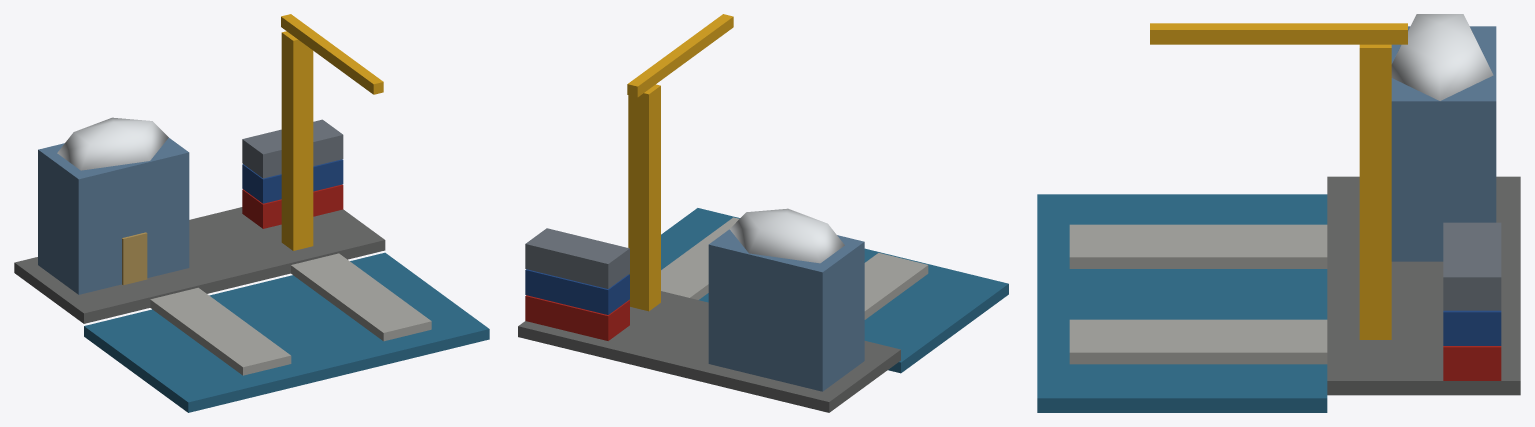
File: bld_special_port_a10_lod2.glb
The picture shows the model from 3 angles, left to right: view 1: azimuth 30°, elevation 25°; view 2: azimuth 150°, elevation 25°; view 3: azimuth 270°, elevation 25°; orthographic projection. The views are drawn at different scales.
Visible parts, largest first — view 1: body, crane; view 2: body, crane; view 3: body, crane.
Boxes of the visible parts, x1=… form: body: x1=14, y1=117, x2=489, y2=412; crane: x1=281, y1=14, x2=383, y2=250; body: x1=518, y1=208, x2=1008, y2=412; crane: x1=627, y1=14, x2=733, y2=311; body: x1=1037, y1=14, x2=1520, y2=412; crane: x1=1150, y1=23, x2=1407, y2=339.
Bounding box in the file's own units: 15 × 11.6 × 15.
